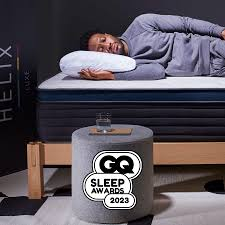bed-matress: (34, 62, 225, 142)
